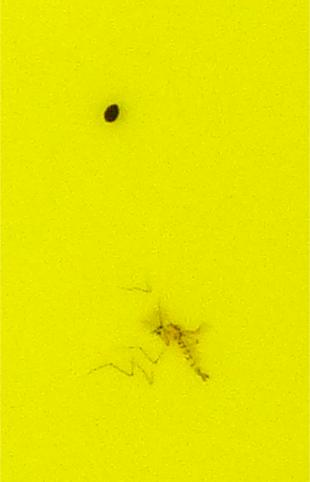Coleoptera: (100, 100, 123, 125)
Nematocera: (150, 310, 210, 382)
